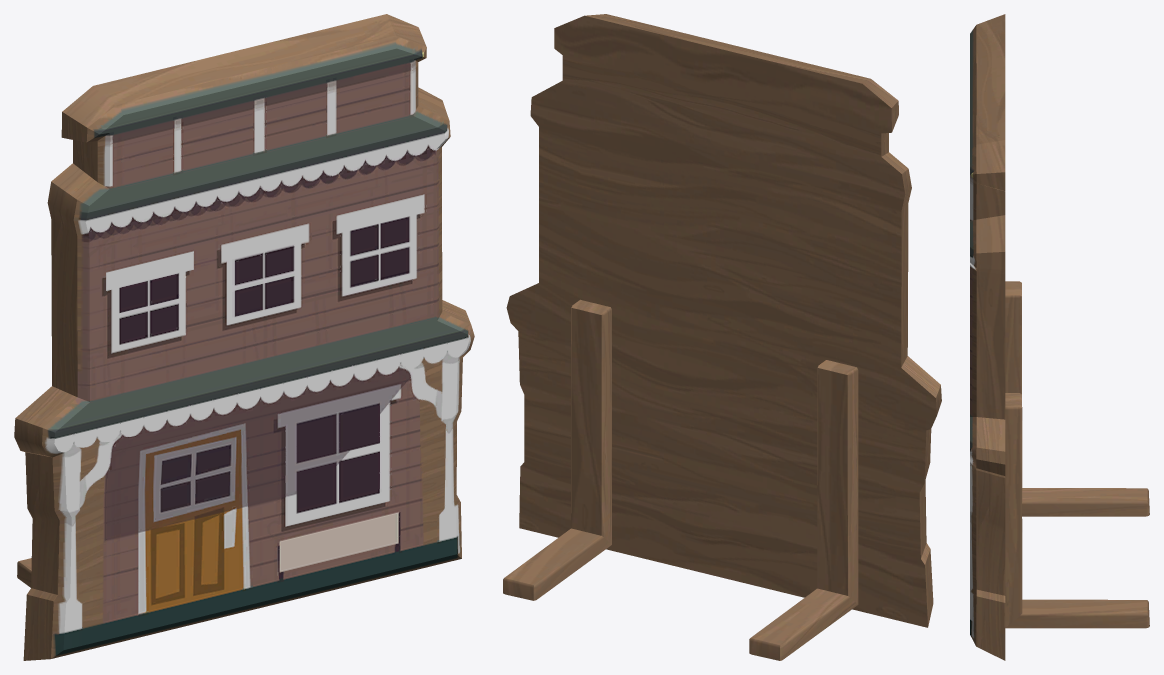
File: large west cutout.glb
3 renders of one model, left to right at view 1: azimuth 30°, elevation 25°; view 2: azimuth 150°, elevation 25°; view 3: azimuth 270°, elevation 25°, orthographic. The views are drawn at different scales.
Parts seen in each view (by area): view 1: Standee_WesternBuilding_Large; view 2: Standee_WesternBuilding_Large; view 3: Standee_WesternBuilding_Large.
Part boxes in pixels (x1,y1,x2,y2): Standee_WesternBuilding_Large: (14,14,474,660); Standee_WesternBuilding_Large: (503,14,941,660); Standee_WesternBuilding_Large: (970,14,1149,660).
Size of the model in its own units: 3.07 by 3.6 by 1.19.
1 material, 1 textured.
